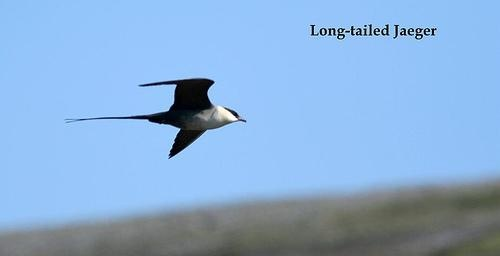bird: (68, 76, 246, 157)
